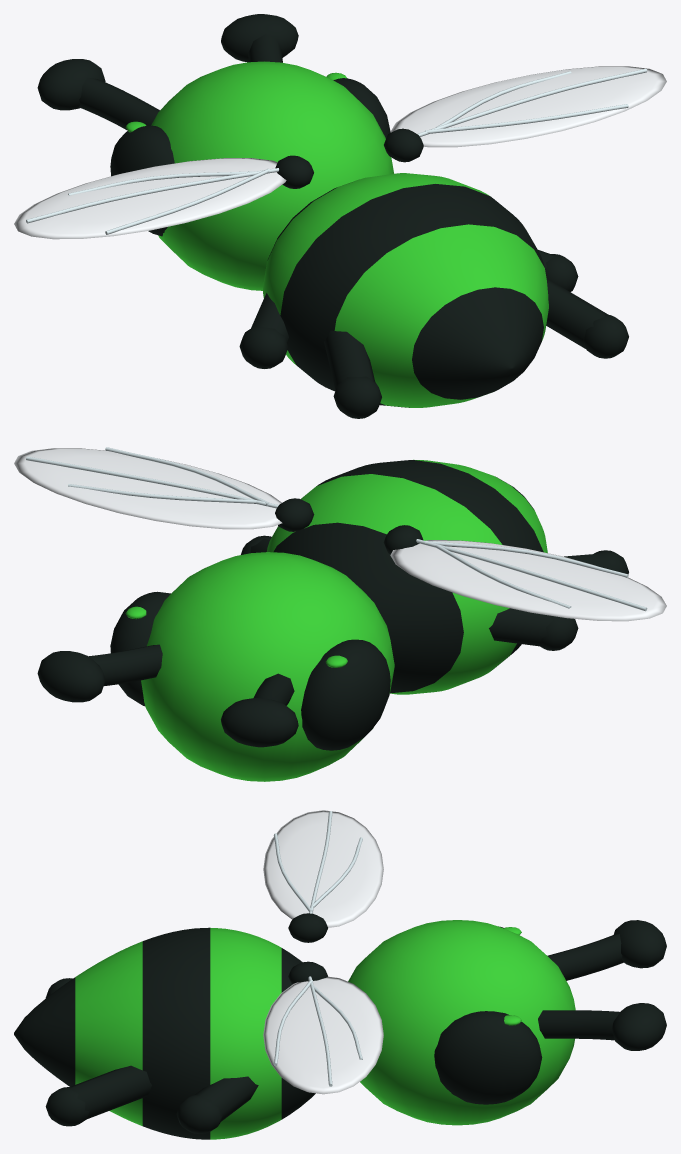
Rendered from Bee_Green.fbx.
The picture shows the model from 3 angles, top to bottom: view 1: azimuth 30°, elevation 25°; view 2: azimuth 150°, elevation 25°; view 3: azimuth 270°, elevation 25°; orthographic projection. The views are drawn at different scales.
Parts seen in each view (by area): view 1: Gameplay_Bee_Green_Color, Gameplay_Bee_Green_Dark, Gameplay_Bee_Green_LeftMembrane, Gameplay_Bee_Green_RightMembrane, Bee_Green_Grip_RightRear, Bee_Green_Grip_LeftRear, Bee_Green_Grip_LeftFront, Bee_Green_Grip_RightFront; view 2: Gameplay_Bee_Green_Color, Gameplay_Bee_Green_Dark, Gameplay_Bee_Green_LeftMembrane, Gameplay_Bee_Green_RightMembrane, Bee_Green_Grip_LeftFront, Bee_Green_Grip_LeftRear; view 3: Gameplay_Bee_Green_Color, Gameplay_Bee_Green_Dark, Gameplay_Bee_Green_RightMembrane, Gameplay_Bee_Green_LeftMembrane, Bee_Green_Grip_RightRear, Bee_Green_Grip_RightFront.
Part boxes in pixels (box(x1,y1,x2,y2)): Gameplay_Bee_Green_Color: box(125, 61, 548, 407); Gameplay_Bee_Green_Dark: box(37, 14, 544, 407); Gameplay_Bee_Green_LeftMembrane: box(14, 158, 286, 239); Gameplay_Bee_Green_RightMembrane: box(390, 66, 666, 147); Bee_Green_Grip_RightRear: box(546, 278, 628, 358); Bee_Green_Grip_LeftRear: box(324, 330, 381, 418); Bee_Green_Grip_LeftFront: box(239, 293, 288, 368); Bee_Green_Grip_RightFront: box(538, 250, 578, 291); Gameplay_Bee_Green_Color: box(125, 459, 547, 781); Gameplay_Bee_Green_Dark: box(37, 460, 543, 750); Gameplay_Bee_Green_LeftMembrane: box(390, 539, 666, 621); Gameplay_Bee_Green_RightMembrane: box(14, 447, 282, 529); Bee_Green_Grip_LeftFront: box(489, 608, 578, 650); Bee_Green_Grip_LeftRear: box(564, 550, 628, 574); Gameplay_Bee_Green_Color: box(75, 920, 575, 1139); Gameplay_Bee_Green_Dark: box(14, 913, 666, 1139); Gameplay_Bee_Green_RightMembrane: box(263, 976, 383, 1094); Gameplay_Bee_Green_LeftMembrane: box(263, 810, 383, 927); Bee_Green_Grip_RightRear: box(45, 1065, 151, 1126); Bee_Green_Grip_RightFront: box(176, 1076, 258, 1133).
Size of the model in its own units: 329 by 104 by 320.
